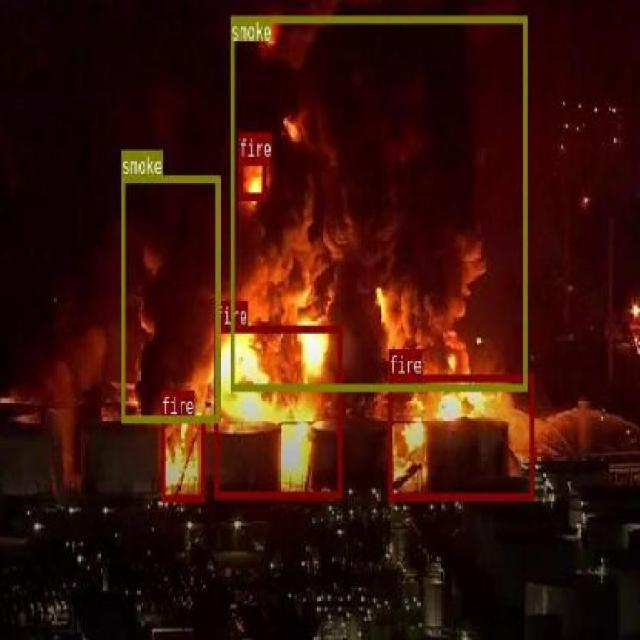Fire: (214, 324, 342, 498), (388, 374, 532, 498), (160, 414, 205, 500), (238, 158, 266, 199)
Smoke: (229, 16, 526, 390), (120, 175, 218, 422)
